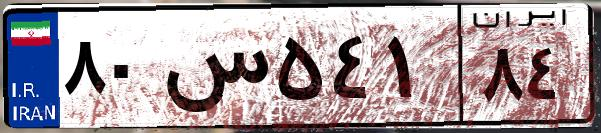0: (110, 28, 158, 98)
1: (385, 28, 445, 110)
4: (330, 28, 385, 110), (525, 38, 570, 115)
5: (270, 28, 330, 110)
8: (57, 26, 110, 100), (475, 38, 525, 113)
س: (158, 20, 270, 120)
